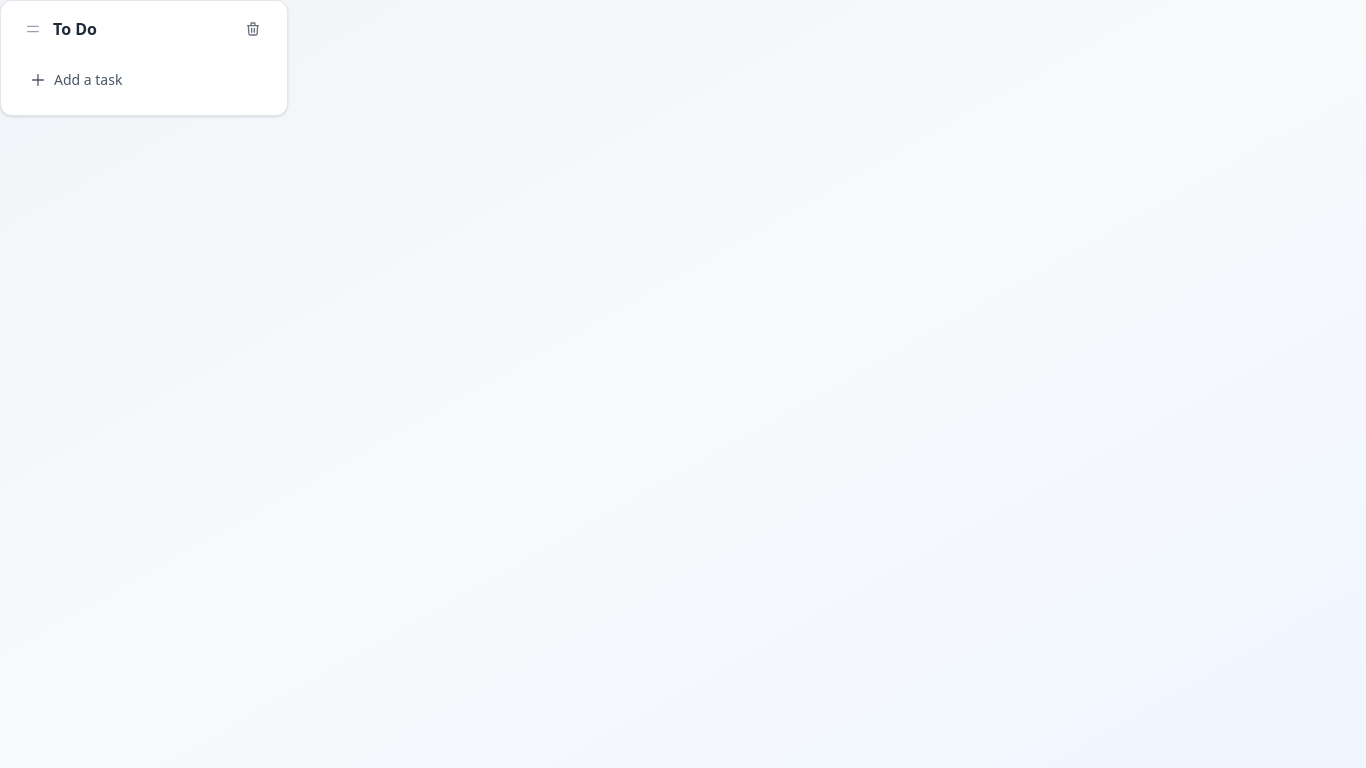
Test: Column › Add Task Functionality › closes modal after task is added
Click the button "Add a task" at [144, 80], box [17,61,271,99]
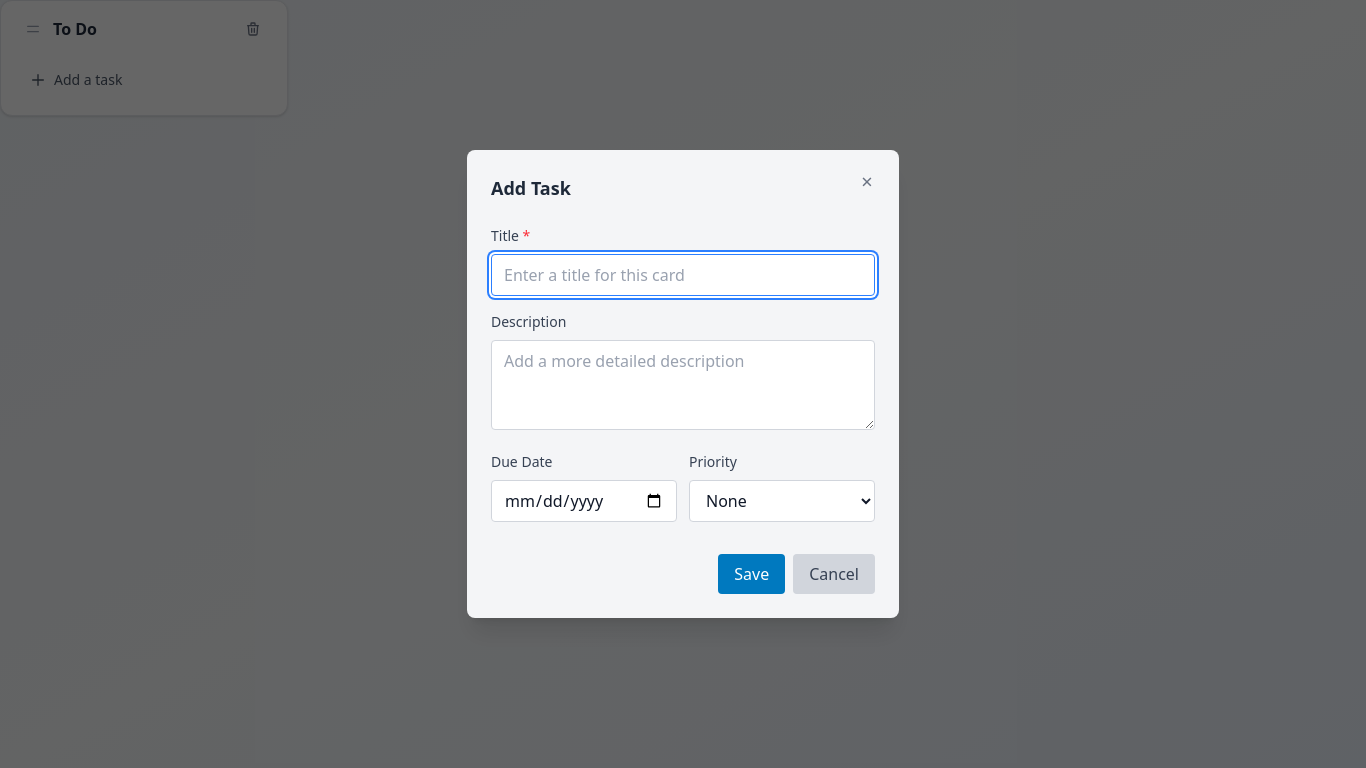
Type "New Task" into the field labelled "Title *" at [683, 275], box [491,254,875,296]
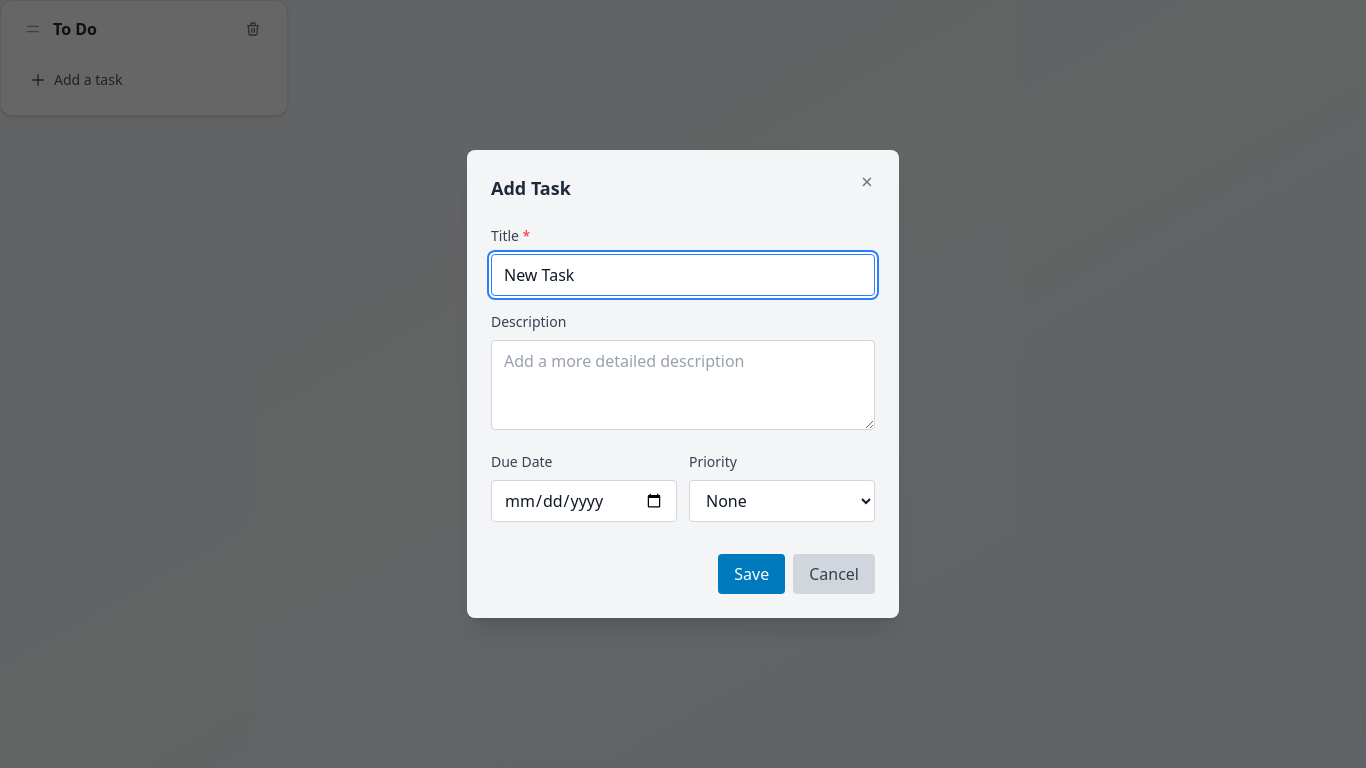
Click the button "Save" at [752, 574], box [718,554,785,594]
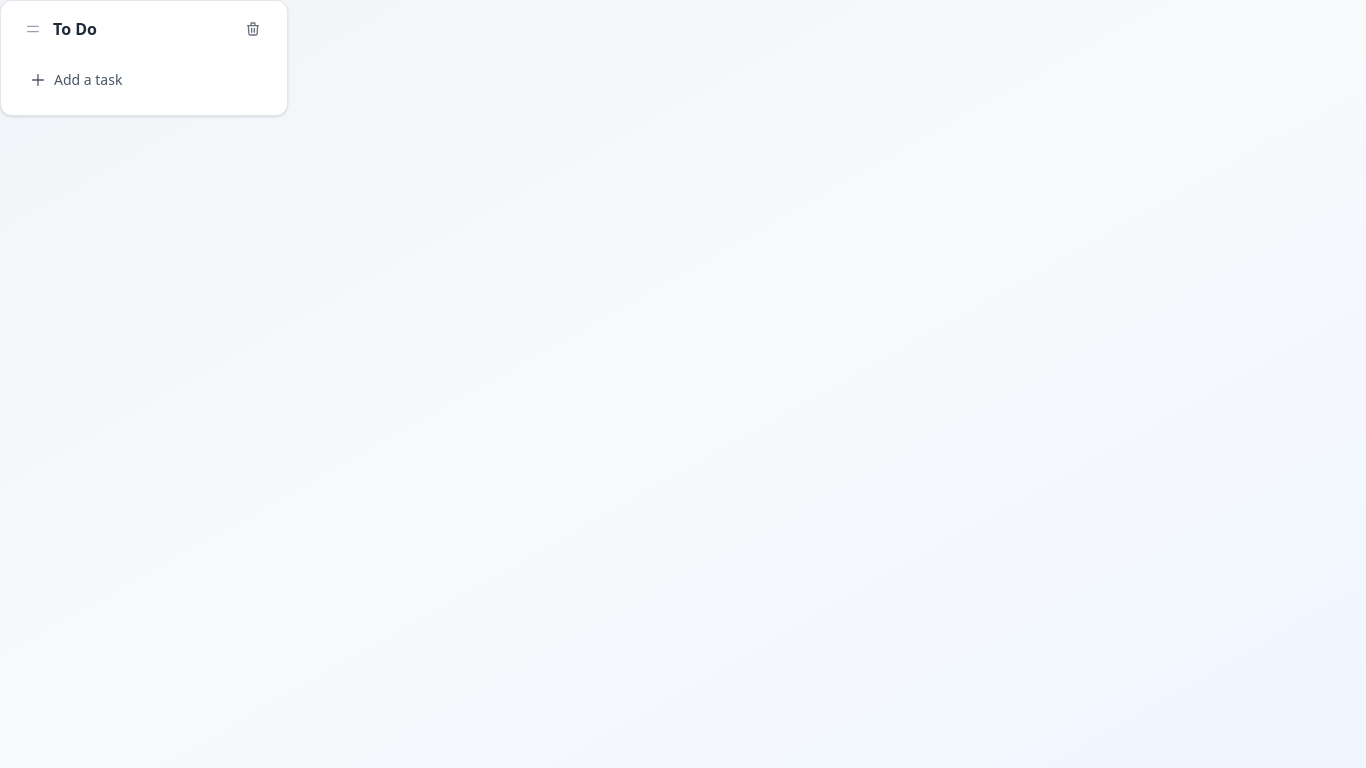
Check: the button "Save" is gone
